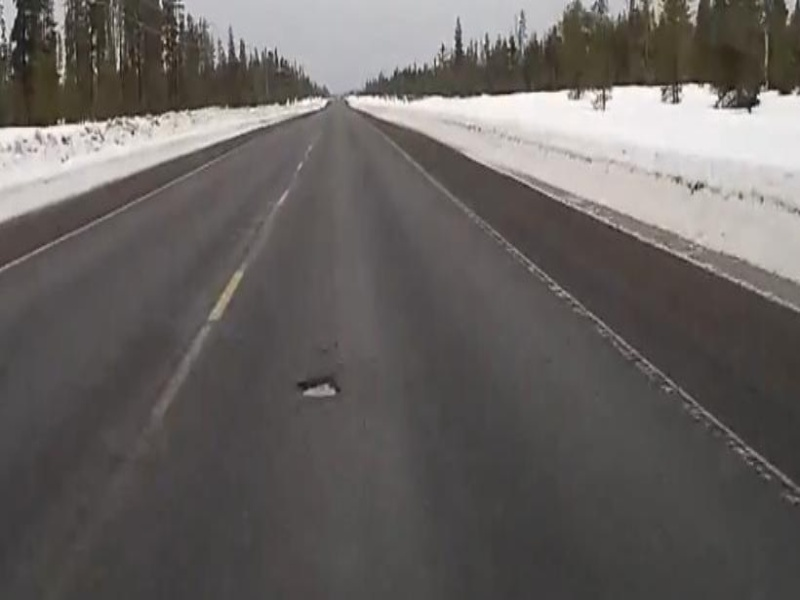pothole: (293, 376, 345, 400)
